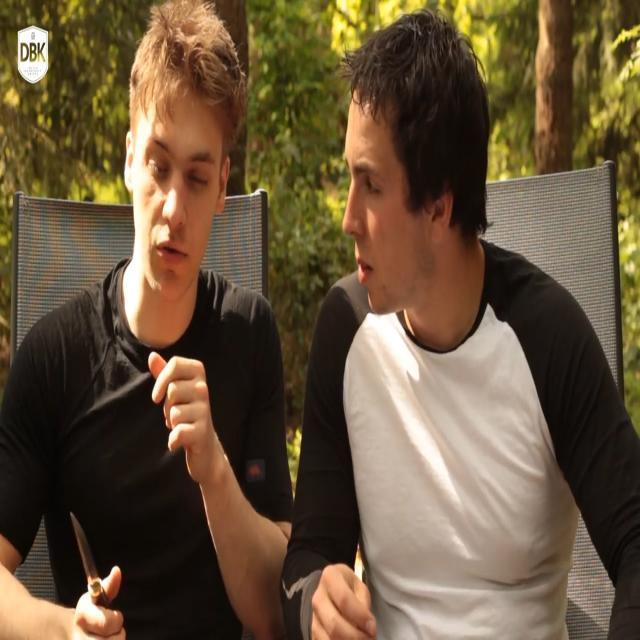faca: (61, 498, 126, 640)
